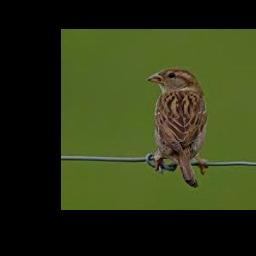Sparrow: (146, 66, 206, 187)
